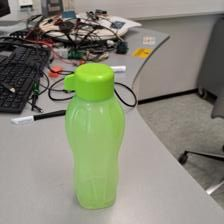bottle: (61, 59, 128, 212)
